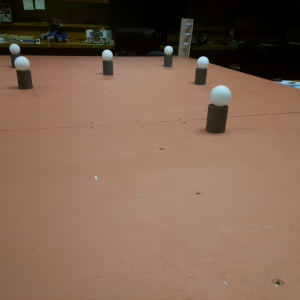corner: (177, 16, 192, 58)
obstacle: (208, 83, 229, 134), (193, 54, 213, 86), (14, 57, 33, 89), (101, 49, 117, 77), (11, 43, 23, 66), (163, 44, 174, 69)
